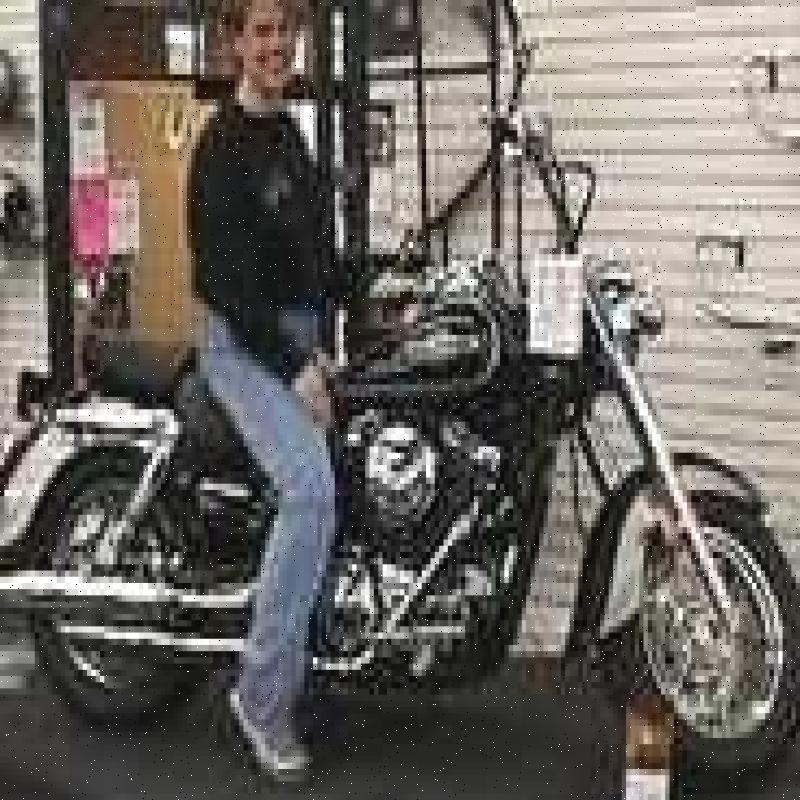bike: (0, 67, 800, 800)
